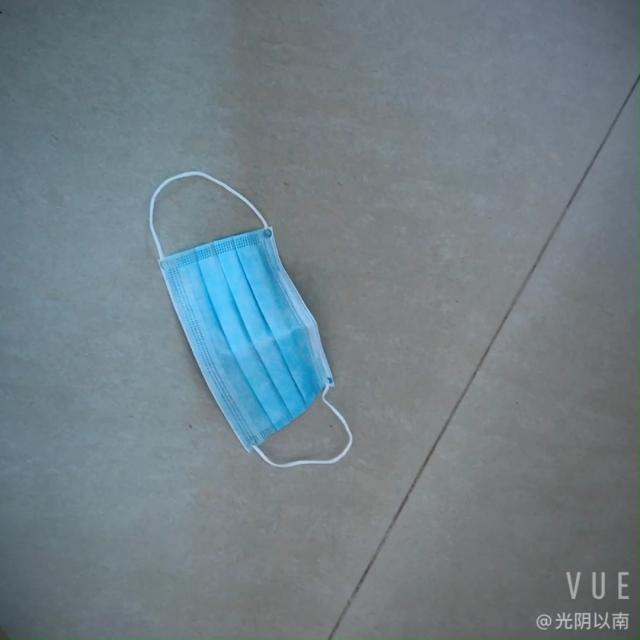face mask: (151, 207, 328, 455)
